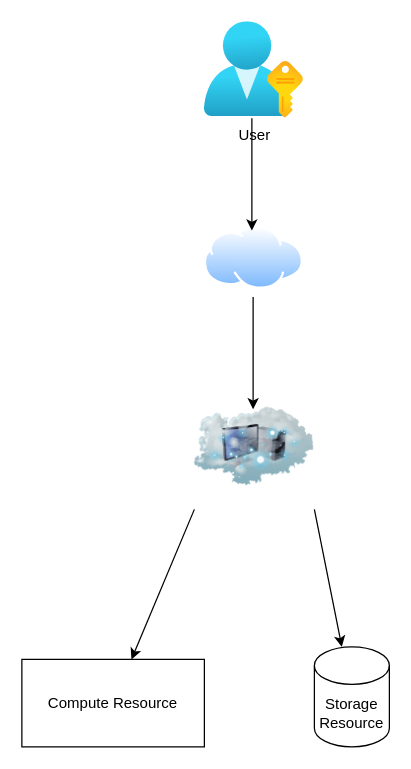
The diagram is 411 pixels wide and 769 high, and some of its shapes have lost their labels. Here are the shapes that lost their labels. From the top down, the centre of each, then its label:
At point (253, 257): "Internet".
At point (254, 446): "Cloud Network".
